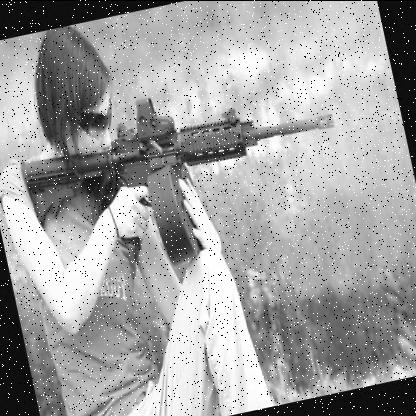rifle: (8, 57, 357, 292)
